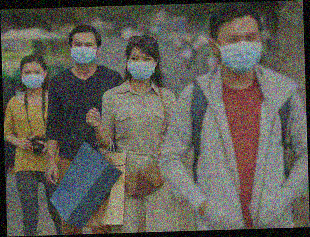with_mask: (216, 31, 262, 77), (127, 54, 156, 81), (71, 40, 97, 67), (20, 68, 45, 90)
